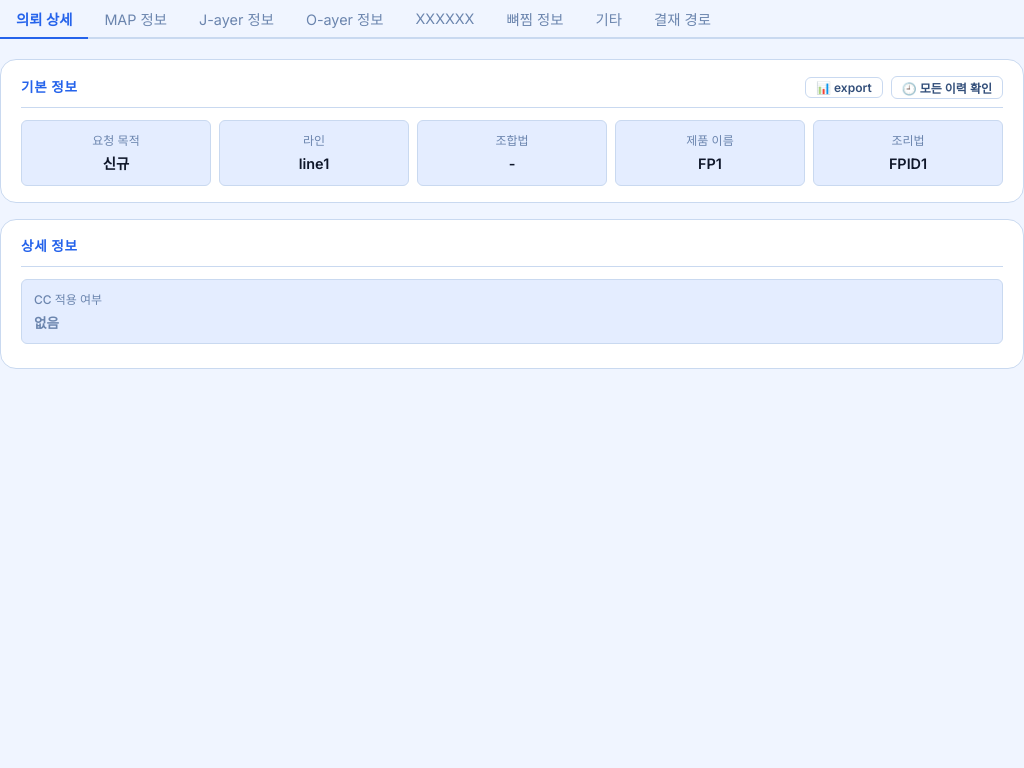
it: 결재 경로 탭 — 회차별 실제 상신자 › 1회차는 A, 2회차는 B(공유 그룹 멤버)로 보인다
Click the button "결재 경로".
click(682, 20)  # box [638,0,727,39]
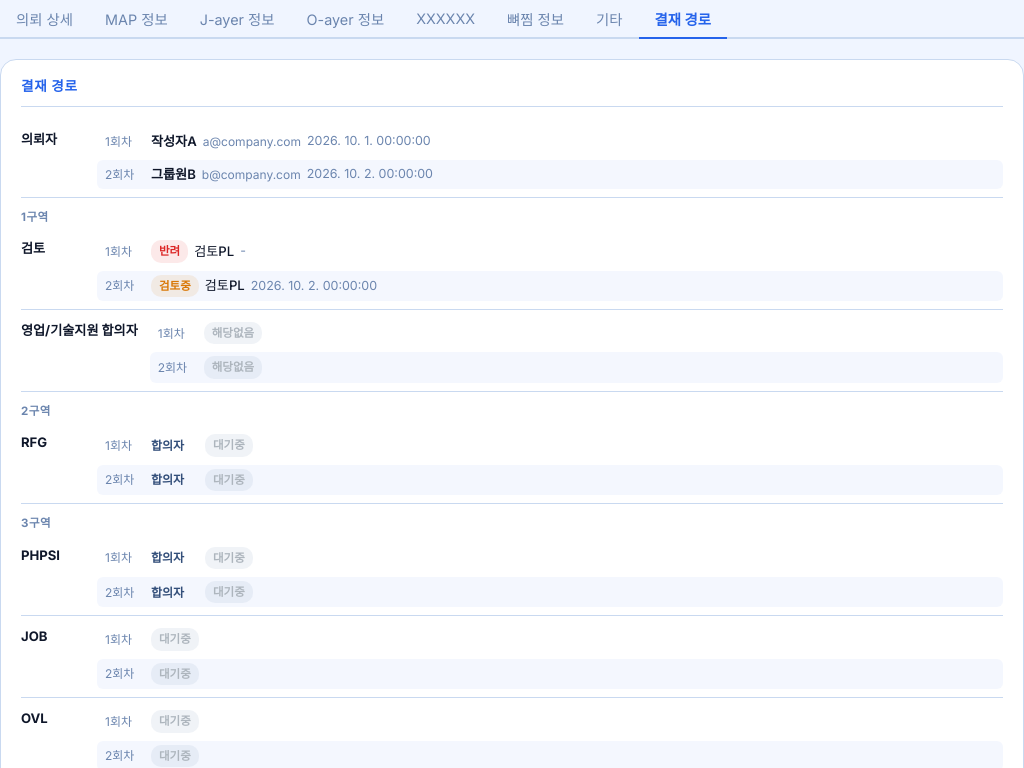
Check: the text "작성자A" is not shown
Check: the element showing "1회차 작성자A a@company.com 2026. 10. 1. 00:00:00" is shown, box [105,133,431,149]
Check: the element showing "2회차 그룹원B b@company.com 2026. 10. 2. 00:00:00" is shown, box [97,160,1003,189]
